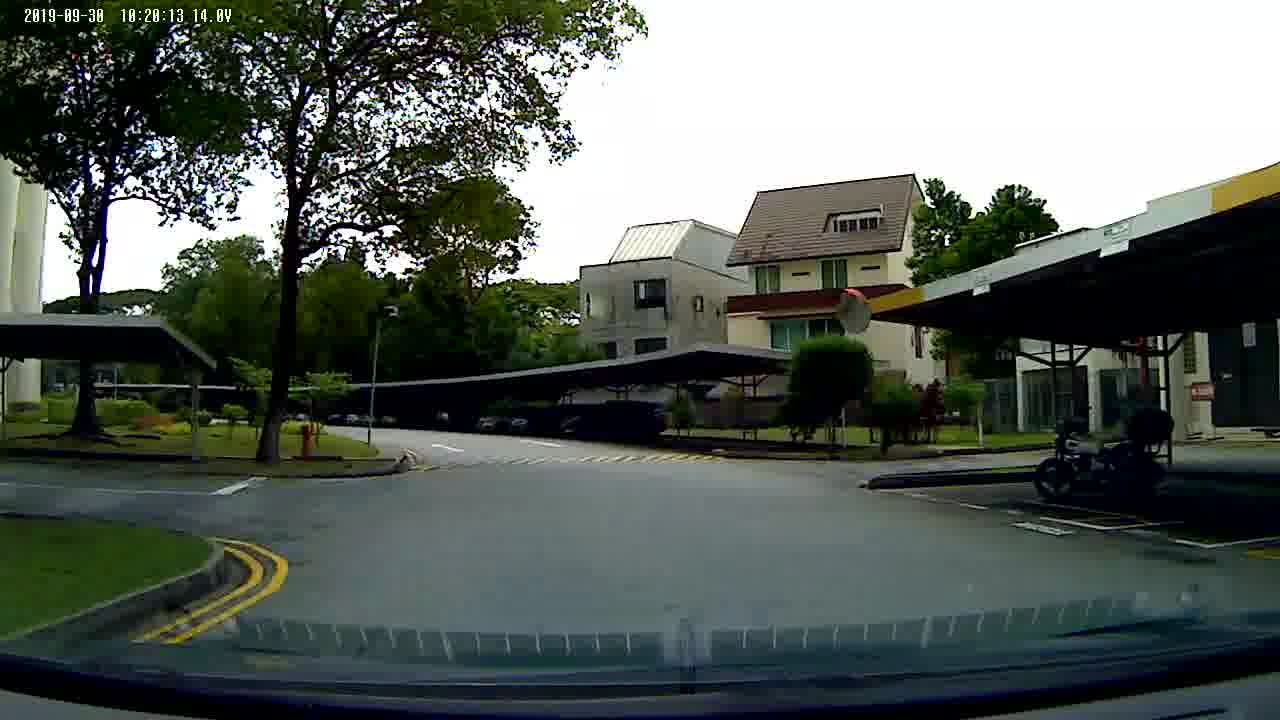car: (556, 396, 673, 449)
